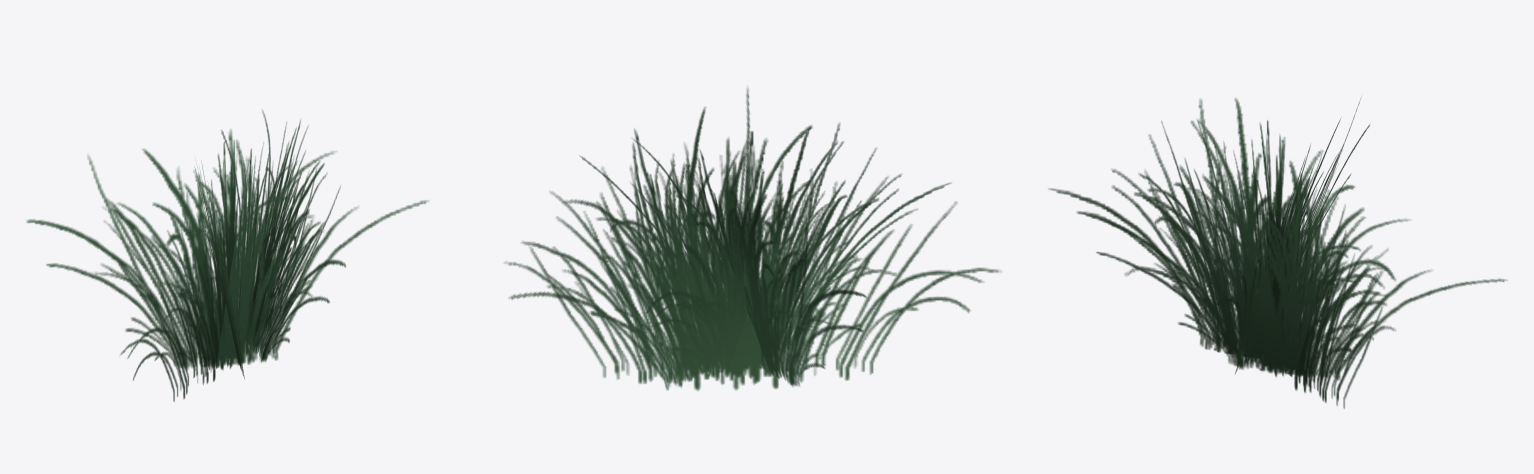
File: grass_small3.glb
The picture shows the model from 3 angles, left to right: view 1: azimuth 30°, elevation 25°; view 2: azimuth 150°, elevation 25°; view 3: azimuth 270°, elevation 25°; orthographic projection. The views are drawn at different scales.
Visible parts, largest first — view 1: Grass small 3; view 2: Grass small 3; view 3: Grass small 3.
Boxes of the visible parts, bbox=[...] form: Grass small 3: bbox=[26, 110, 428, 401]; Grass small 3: bbox=[504, 87, 1000, 390]; Grass small 3: bbox=[1048, 97, 1507, 408].
Size of the model in its own units: 0.2916 by 0.199 by 0.3151.
Materials: 1 (1 with a texture image).
